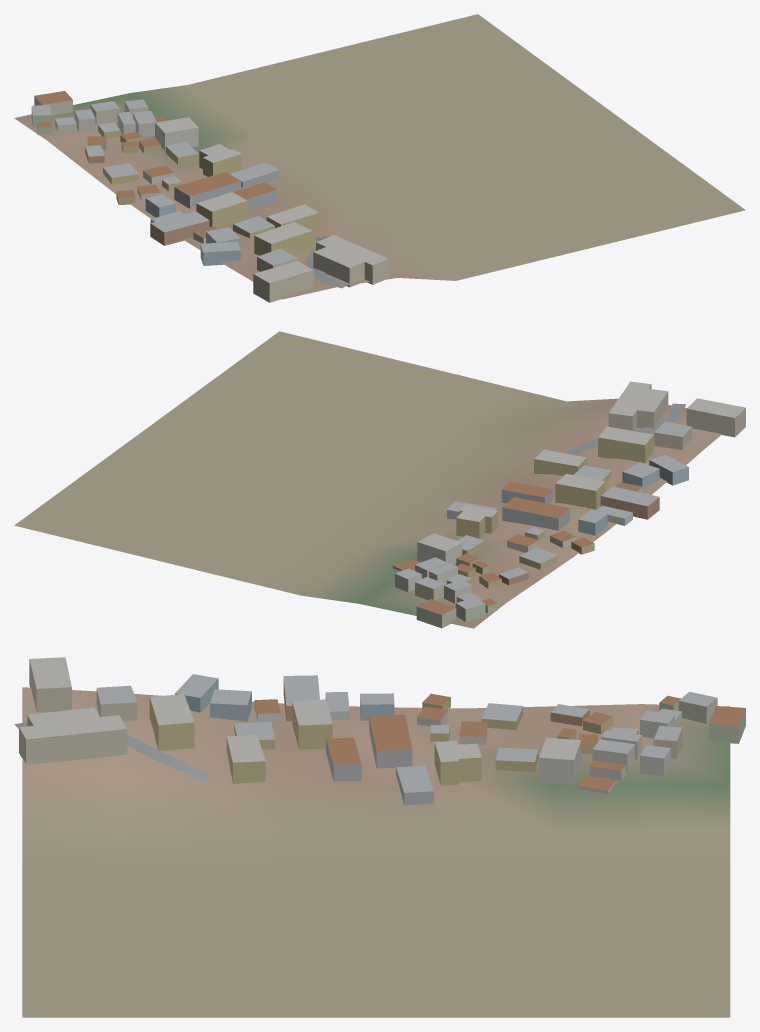
3 renders of one model, top to bottom at view 1: azimuth 30°, elevation 25°; view 2: azimuth 150°, elevation 25°; view 3: azimuth 270°, elevation 25°, orthographic. The views are drawn at different scales.
Parts seen in each view (by area): view 1: Lo; view 2: Lo; view 3: Lo.
Part boxes in pixels (x1,y1,x2,y2): Lo: (14,14,745,302); Lo: (14,331,745,628); Lo: (14,657,745,1017).
Size of the model in its own units: 267 by 21.6 by 265.
